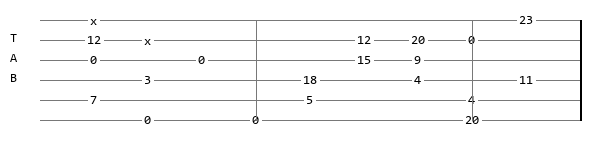0: (90, 54, 101, 66), (144, 114, 155, 126), (198, 54, 209, 66), (252, 114, 263, 126), (468, 34, 479, 46)
11: (519, 74, 537, 86)
12: (87, 34, 105, 46), (357, 34, 375, 46)
15: (357, 54, 375, 66)
18: (303, 74, 321, 86)
20: (411, 34, 429, 46), (465, 114, 483, 126)
23: (519, 14, 537, 26)
3: (144, 74, 155, 86)
4: (414, 74, 425, 86), (468, 94, 479, 106)
5: (306, 94, 317, 106)
7: (90, 94, 101, 106)
9: (414, 54, 425, 66)
x: (90, 15, 101, 25), (144, 35, 155, 45)
